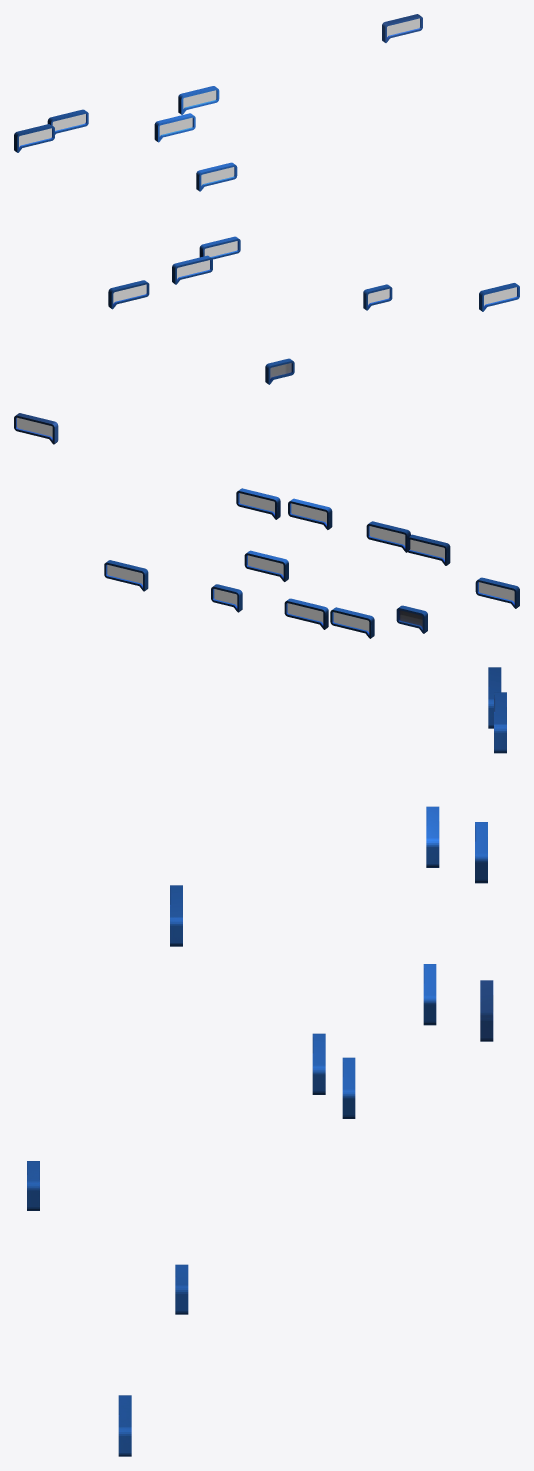
Rendered from pop_up_running.glb.
3 renders of one model, top to bottom at view 1: azimuth 30°, elevation 25°; view 2: azimuth 150°, elevation 25°; view 3: azimuth 270°, elevation 25°, orthographic. The views are drawn at different scales.
Visible parts, largest first — view 1: pop_up_social_networks, pop_up_games, pop_up_travel, pop_up_development, pop_up_contact_me, pop_up_languages, pop_up_photography_right, pop_up_art, pop_up_stereoscopy, pop_up_photography_left, pop_up_running, pop_up_share_knowledge; view 2: pop_up_contact_me, pop_up_languages, pop_up_travel, pop_up_photography_right, pop_up_social_networks, pop_up_development, pop_up_stereoscopy, pop_up_games, pop_up_photography_left, pop_up_art, pop_up_share_knowledge, pop_up_running; view 3: no part large enough to name.
Part boxes in pixels (<box>): pop_up_social_networks: <box>154,113,195,142</box>; pop_up_games: <box>108,280,149,309</box>; pop_up_travel: <box>178,86,219,114</box>; pop_up_development: <box>196,162,237,191</box>; pop_up_contact_me: <box>172,255,212,284</box>; pop_up_languages: <box>382,14,422,42</box>; pop_up_photography_right: <box>479,283,519,311</box>; pop_up_art: <box>14,124,54,152</box>; pop_up_stereoscopy: <box>199,236,240,259</box>; pop_up_photography_left: <box>47,109,88,134</box>; pop_up_running: <box>265,358,294,384</box>; pop_up_share_knowledge: <box>363,284,392,310</box>; pop_up_contact_me: <box>330,607,374,638</box>; pop_up_languages: <box>14,413,58,444</box>; pop_up_travel: <box>236,488,280,519</box>; pop_up_photography_right: <box>104,560,148,591</box>; pop_up_social_networks: <box>288,498,332,529</box>; pop_up_development: <box>244,550,288,581</box>; pop_up_stereoscopy: <box>284,598,328,629</box>; pop_up_games: <box>475,577,519,608</box>; pop_up_photography_left: <box>366,521,410,552</box>; pop_up_art: <box>408,534,450,565</box>; pop_up_share_knowledge: <box>211,584,242,612</box>; pop_up_running: <box>396,605,427,633</box>.
Bounding box in the file's own units: 35.1 × 18.2 × 17.78.
Materials: 12 (12 with a texture image).
